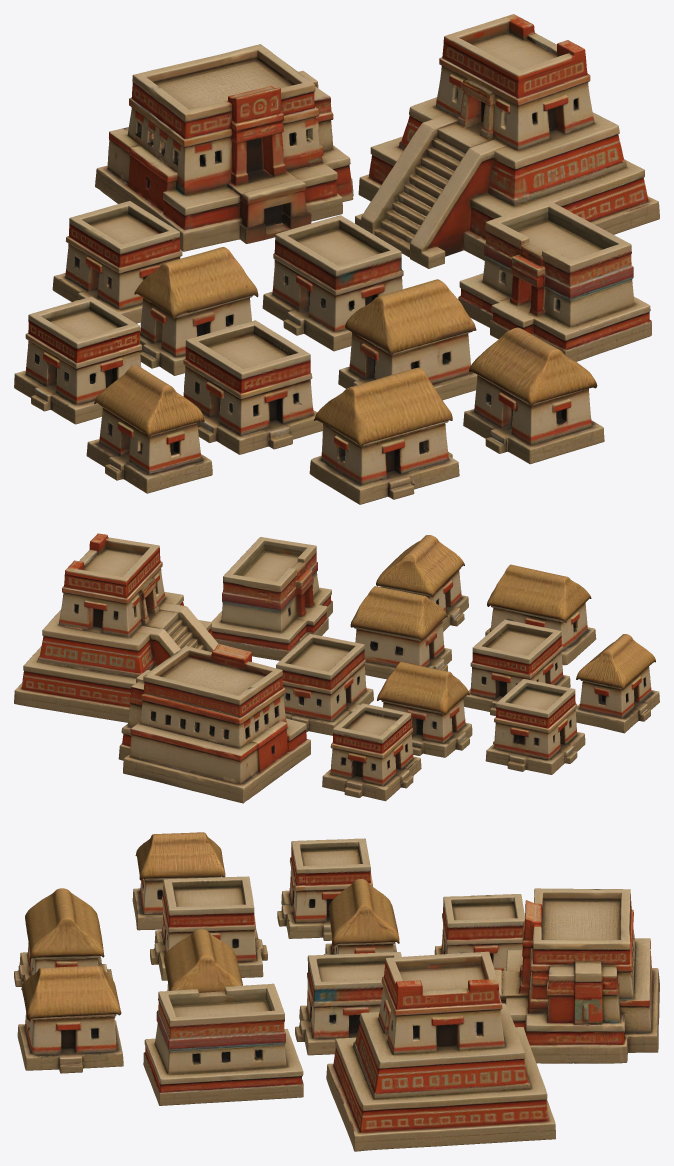
The model's file is Medieval Village (Mesoamerican).fbx.
The picture shows the model from 3 angles, top to bottom: view 1: azimuth 30°, elevation 25°; view 2: azimuth 150°, elevation 25°; view 3: azimuth 270°, elevation 25°; orthographic projection. The views are drawn at different scales.
Parts seen in each view (by area): view 1: tripo_node_b87ccf7e; view 2: tripo_node_b87ccf7e; view 3: tripo_node_b87ccf7e.
Part boxes in pixels (box(x1,y1,x2,y2)): tripo_node_b87ccf7e: box(14, 14, 659, 504); tripo_node_b87ccf7e: box(14, 533, 659, 803); tripo_node_b87ccf7e: box(14, 832, 659, 1151).
Bounding box in the file's own units: 1 × 0.2809 × 0.9817.
